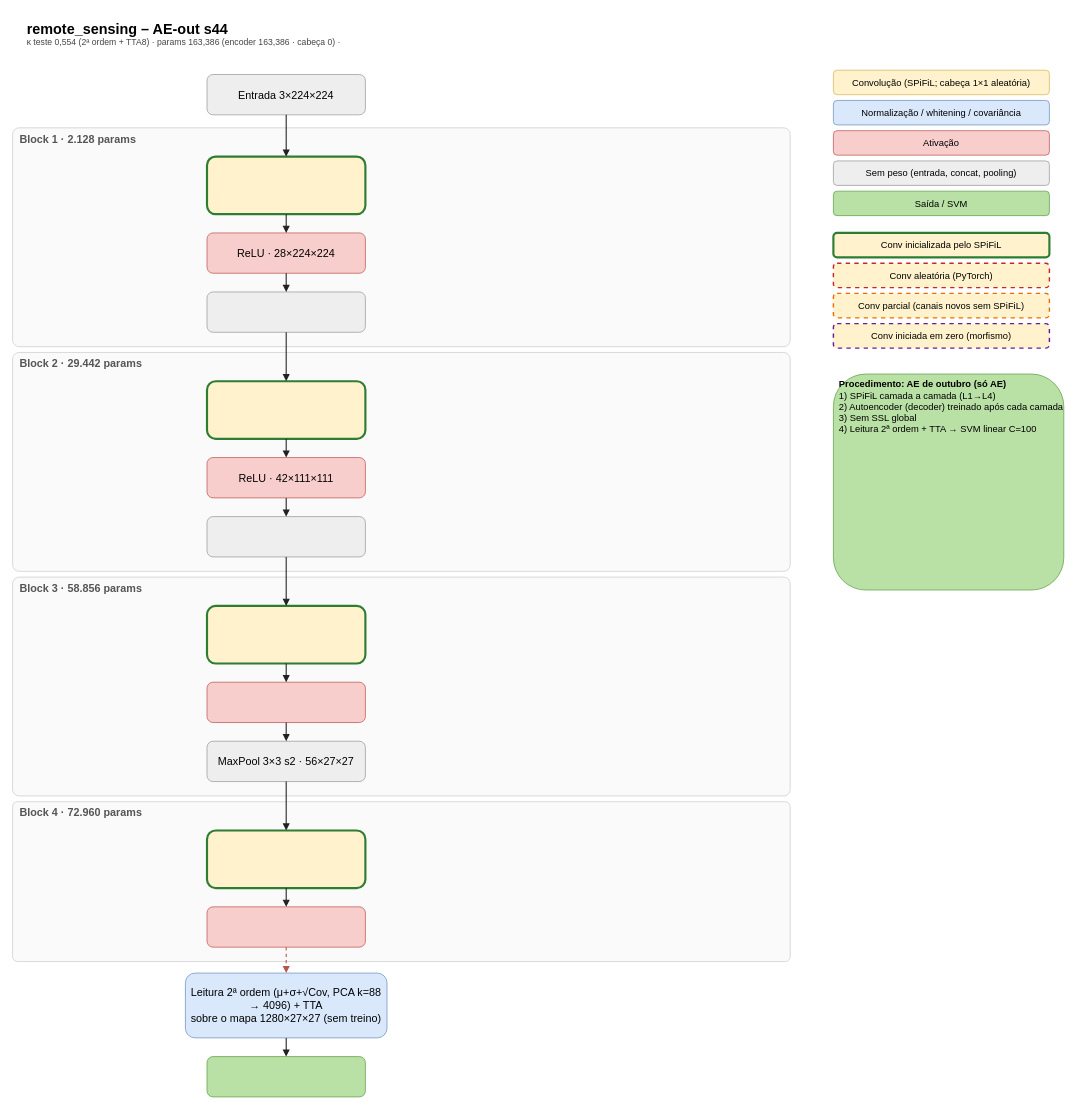
The diagram is 1076 pixels wide and 1110 high, and some of its shapes have lost their labels. Here are the shapes that lost their labels. From the top down, the centre of each, then its label:
the point at 286,185: Conv5×5 3→28 · 28×224×224 2.128 params SPiFiL
the point at 285,311: MaxPool 3×3 s2 · 28×111×111
the point at 286,410: Conv5×5 28→42 · 42×111×111 29.442 params SPiFiL
the point at 285,536: MaxPool 3×3 s2 · 42×55×55
the point at 286,634: Conv5×5 42→56 · 56×55×55 58.856 params SPiFiL
the point at 285,702: ReLU · 56×55×55
the point at 286,859: Conv1×1 56→1280 · 1280×27×27 72.960 params SPiFiL
the point at 285,926: ReLU · 1280×27×27
the point at 285,1076: SVM linear C=100 (teste)
